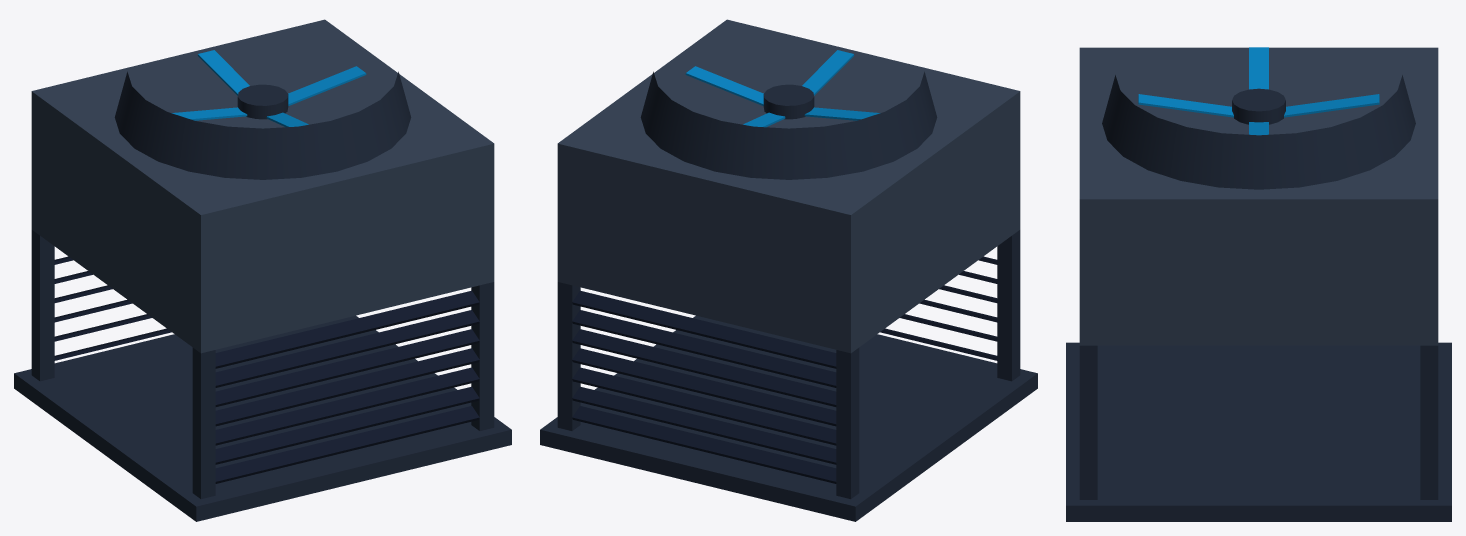
The model's file is cooling_tower.glb.
The picture shows the model from 3 angles, left to right: view 1: azimuth 30°, elevation 25°; view 2: azimuth 150°, elevation 25°; view 3: azimuth 270°, elevation 25°; orthographic projection. The views are drawn at different scales.
Parts seen in each view (by area): view 1: object 20, object 1, object 21, Tower_Fan_Rotor, object 9, object 19, object 13, object 11, object 7, object 15, object 17, object 4 (+3 smaller); view 2: object 20, object 1, object 21, Tower_Fan_Rotor, object 8, object 18, object 12, object 10, object 6, object 14, object 16, object 2 (+3 smaller); view 3: object 20, object 1, object 21, Tower_Fan_Rotor, object 3, object 5.
Part boxes in pixels (x1,y1,x2,y2): object 20: (31, 19, 494, 353); object 1: (14, 315, 511, 521); object 21: (114, 71, 411, 179); Tower_Fan_Rotor: (171, 50, 366, 127); object 9: (215, 386, 479, 464); object 19: (215, 290, 479, 368); object 13: (215, 348, 479, 426); object 11: (215, 367, 479, 445); object 7: (215, 406, 479, 483); object 15: (215, 329, 479, 406); object 17: (215, 310, 479, 387); object 4: (192, 347, 215, 499); object 20: (557, 19, 1020, 353); object 1: (540, 315, 1037, 521); object 21: (640, 71, 937, 179); Tower_Fan_Rotor: (685, 50, 880, 127); object 8: (572, 386, 836, 464); object 18: (572, 290, 836, 368); object 12: (572, 348, 836, 426); object 10: (572, 367, 836, 445); object 6: (572, 406, 836, 483); object 14: (572, 329, 836, 406); object 16: (572, 310, 836, 387); object 2: (836, 347, 859, 499); object 20: (1079, 47, 1438, 345); object 1: (1066, 342, 1451, 521); object 21: (1102, 75, 1415, 189); Tower_Fan_Rotor: (1138, 47, 1379, 135); object 3: (1420, 345, 1438, 499); object 5: (1079, 345, 1097, 499).
Size of the model in its own units: 8.6 by 9 by 8.6.
